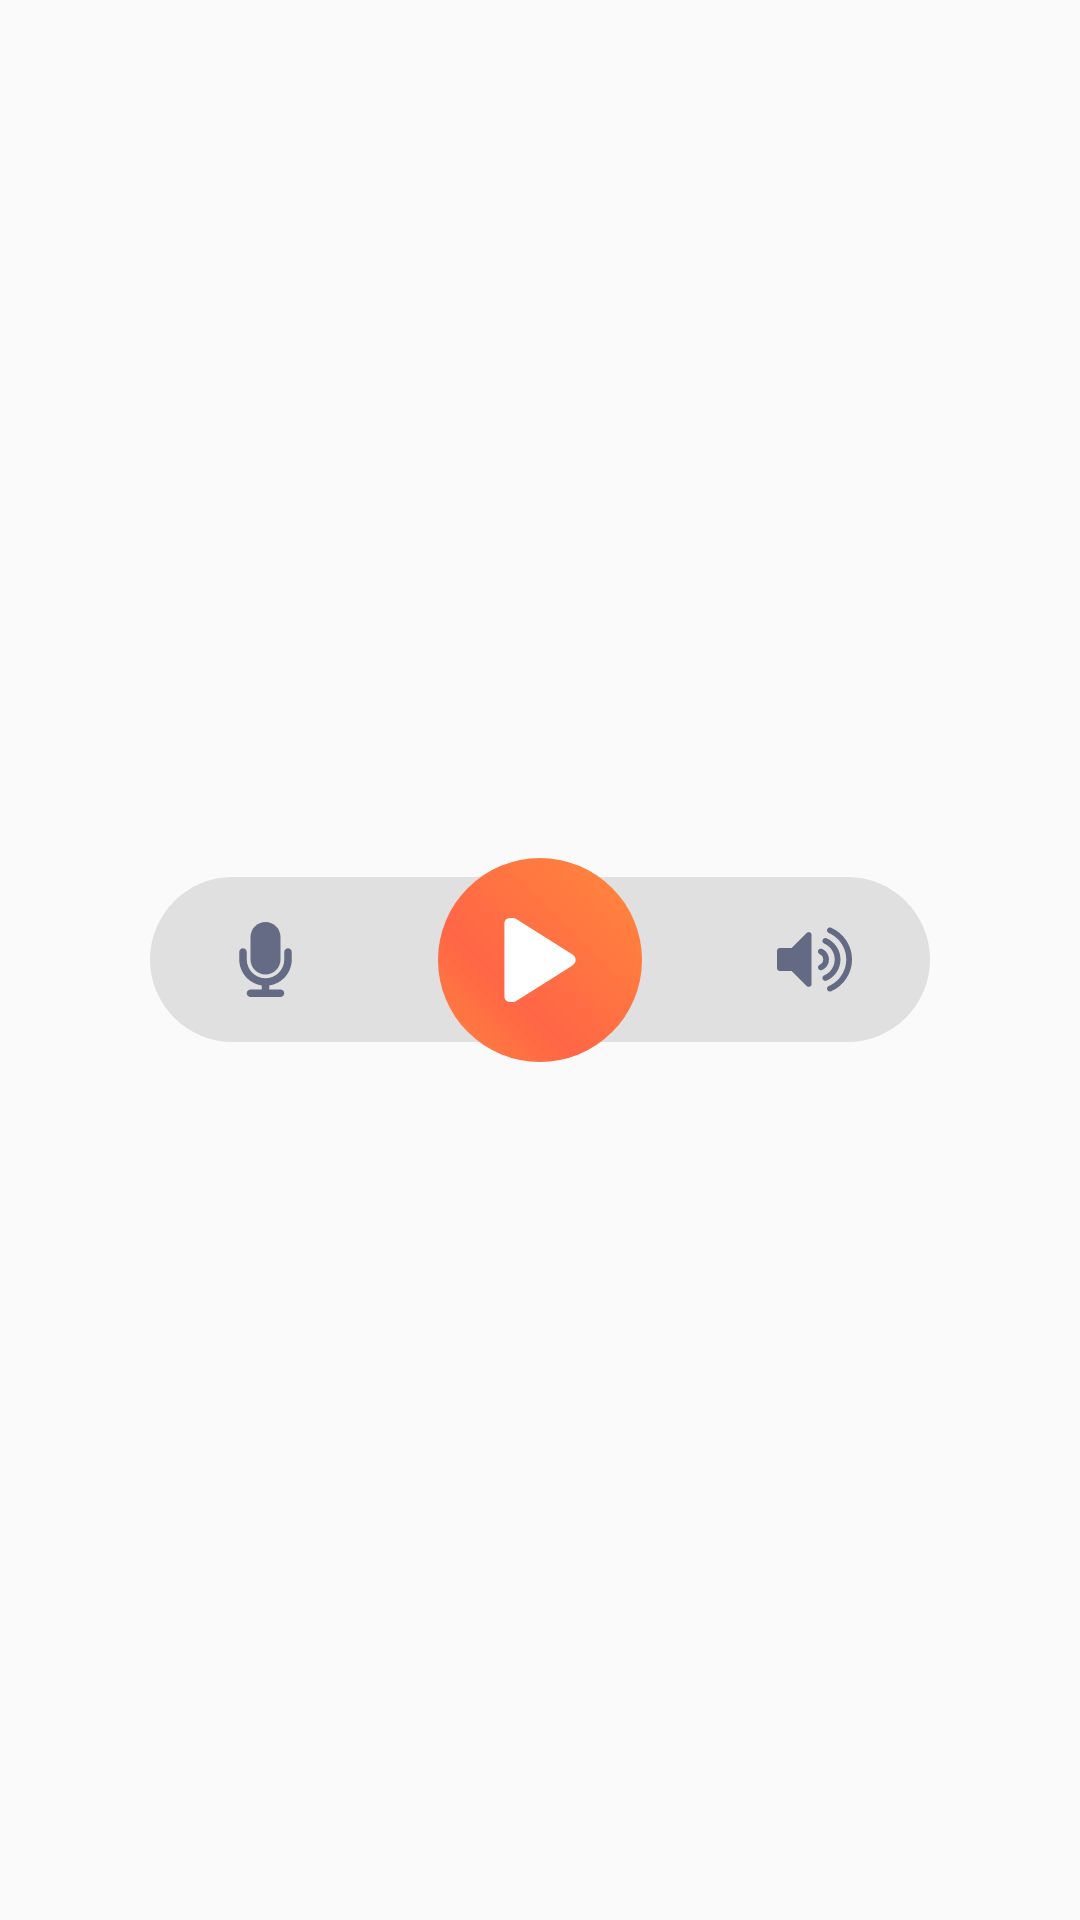

Icons on this 1080×1920 Android screen, each with its box as (x1, y1, x2, y2):
record: (239, 922, 292, 997)
volume up: (777, 927, 852, 992)
